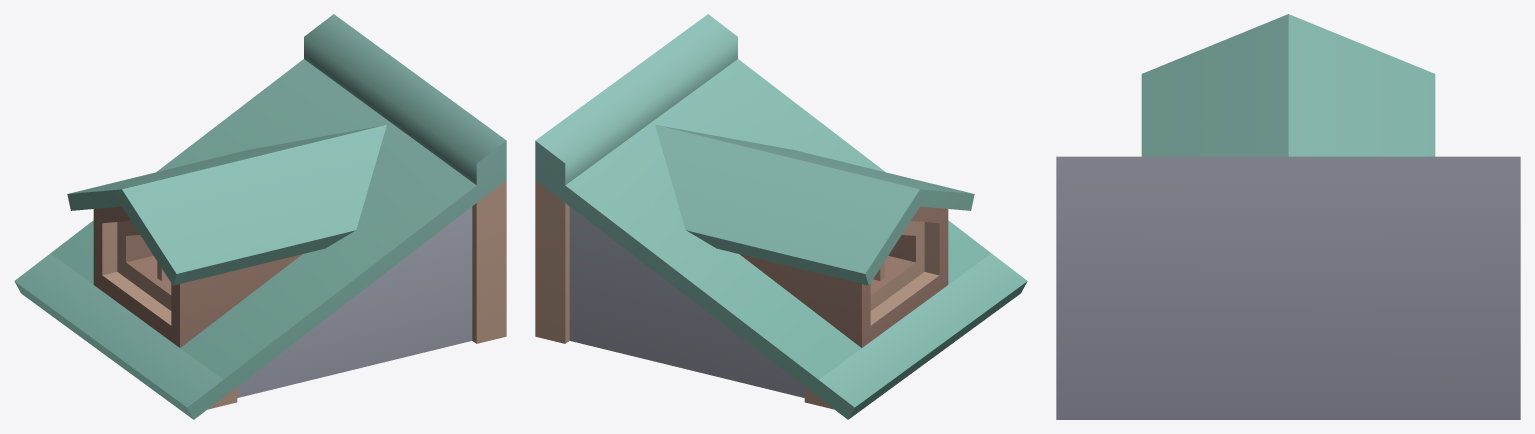
The model's file is roof-window.glb.
3 renders of one model, left to right at view 1: azimuth 30°, elevation 25°; view 2: azimuth 150°, elevation 25°; view 3: azimuth 270°, elevation 25°, orthographic. The views are drawn at different scales.
Parts seen in each view (by area): view 1: roof-window; view 2: roof-window; view 3: roof-window.
Part boxes in pixels (x1,y1,x2,y2): roof-window: (14,14,506,419); roof-window: (535,14,1027,419); roof-window: (1056,14,1520,419).
Size of the model in its own units: 1.07 by 0.6483 by 1.
